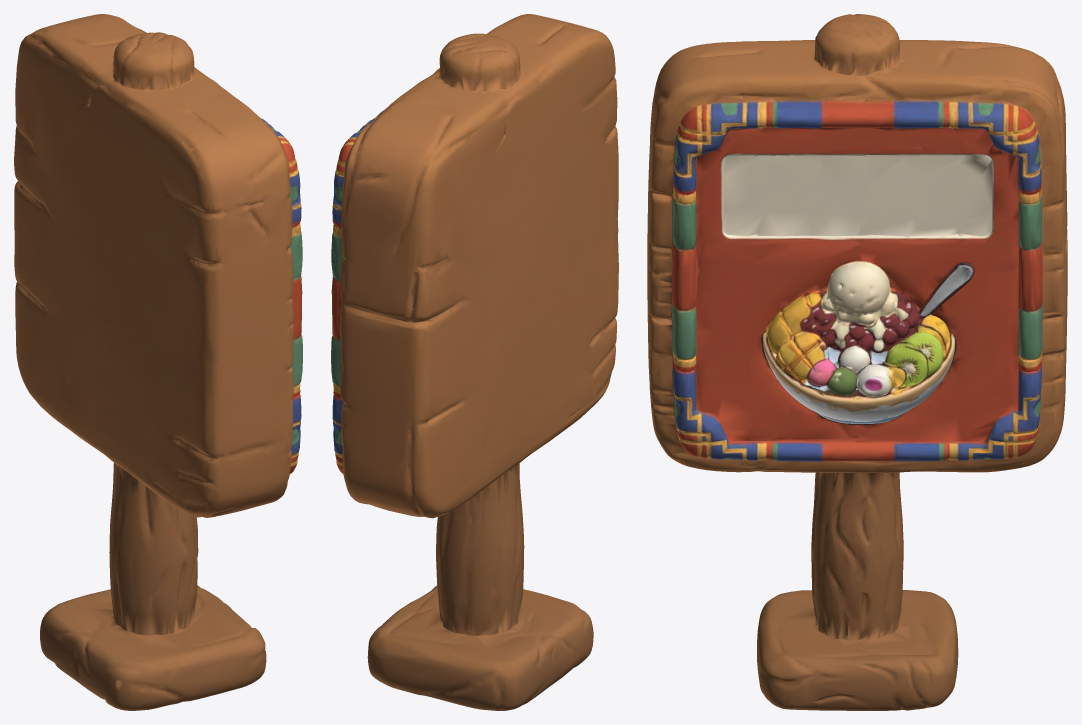
The model's file is KR_사물_s1_sign_billboard_old.glb.
The picture shows the model from 3 angles, left to right: view 1: azimuth 30°, elevation 25°; view 2: azimuth 150°, elevation 25°; view 3: azimuth 270°, elevation 25°; orthographic projection. The views are drawn at different scales.
Visible parts, largest first — view 1: tripo_node_e01d8dcf-8140-4219-b1af-25eab50495af; view 2: tripo_node_e01d8dcf-8140-4219-b1af-25eab50495af; view 3: tripo_node_e01d8dcf-8140-4219-b1af-25eab50495af.
Part boxes in pixels (<box>): tripo_node_e01d8dcf-8140-4219-b1af-25eab50495af: <box>14,14,302,710</box>; tripo_node_e01d8dcf-8140-4219-b1af-25eab50495af: <box>331,14,618,710</box>; tripo_node_e01d8dcf-8140-4219-b1af-25eab50495af: <box>647,14,1067,710</box>.
Size of the model in its own units: 0.2993 by 1 by 0.5821.
1 material, 1 textured.
